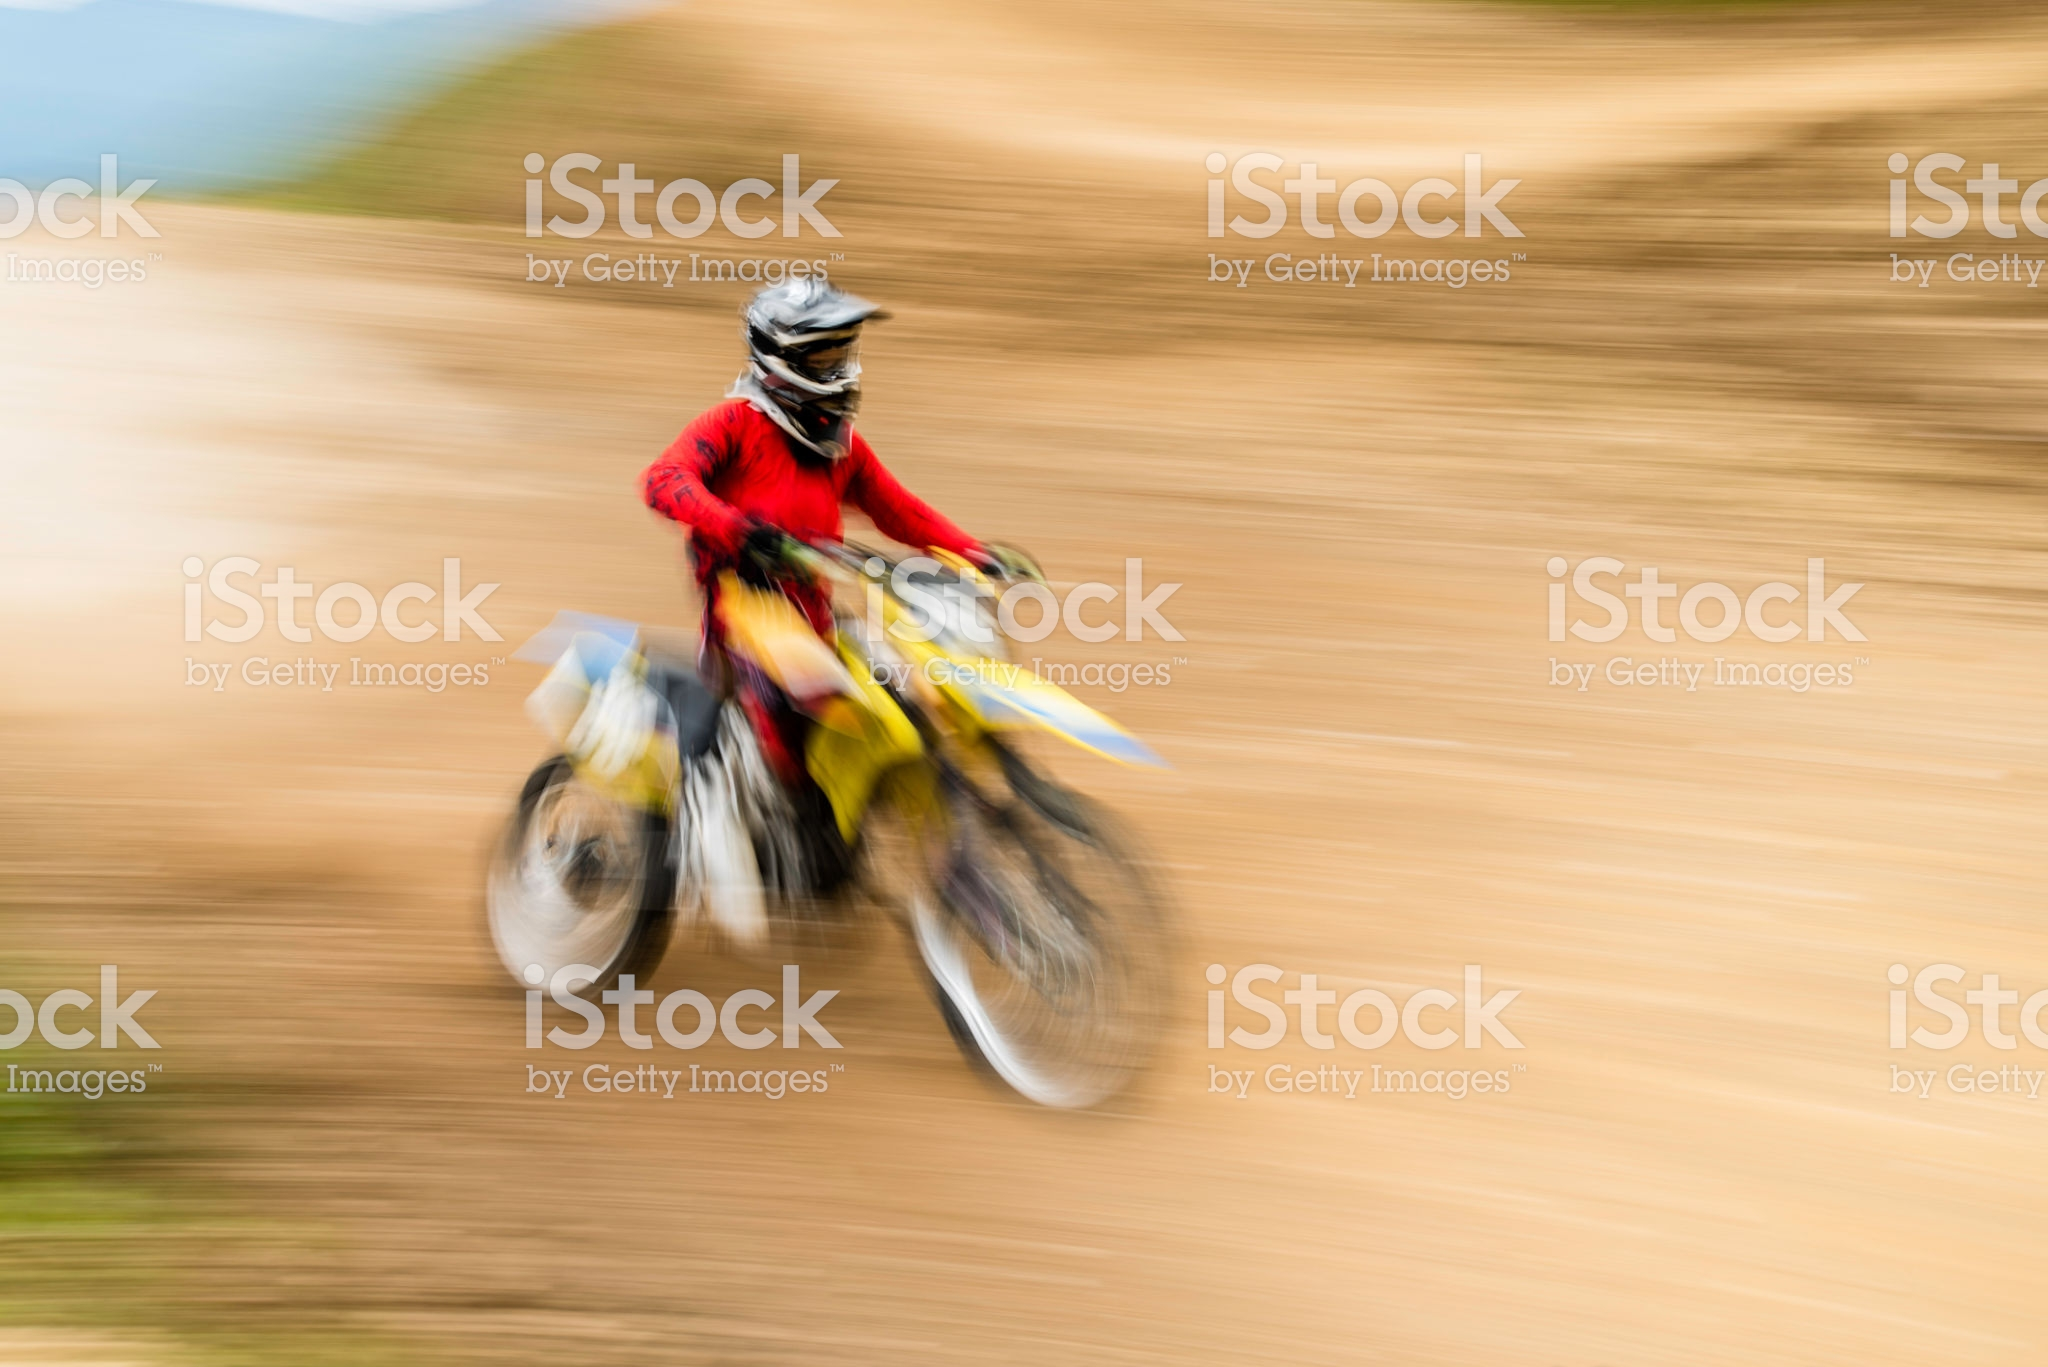helmet: (744, 253, 894, 442)
